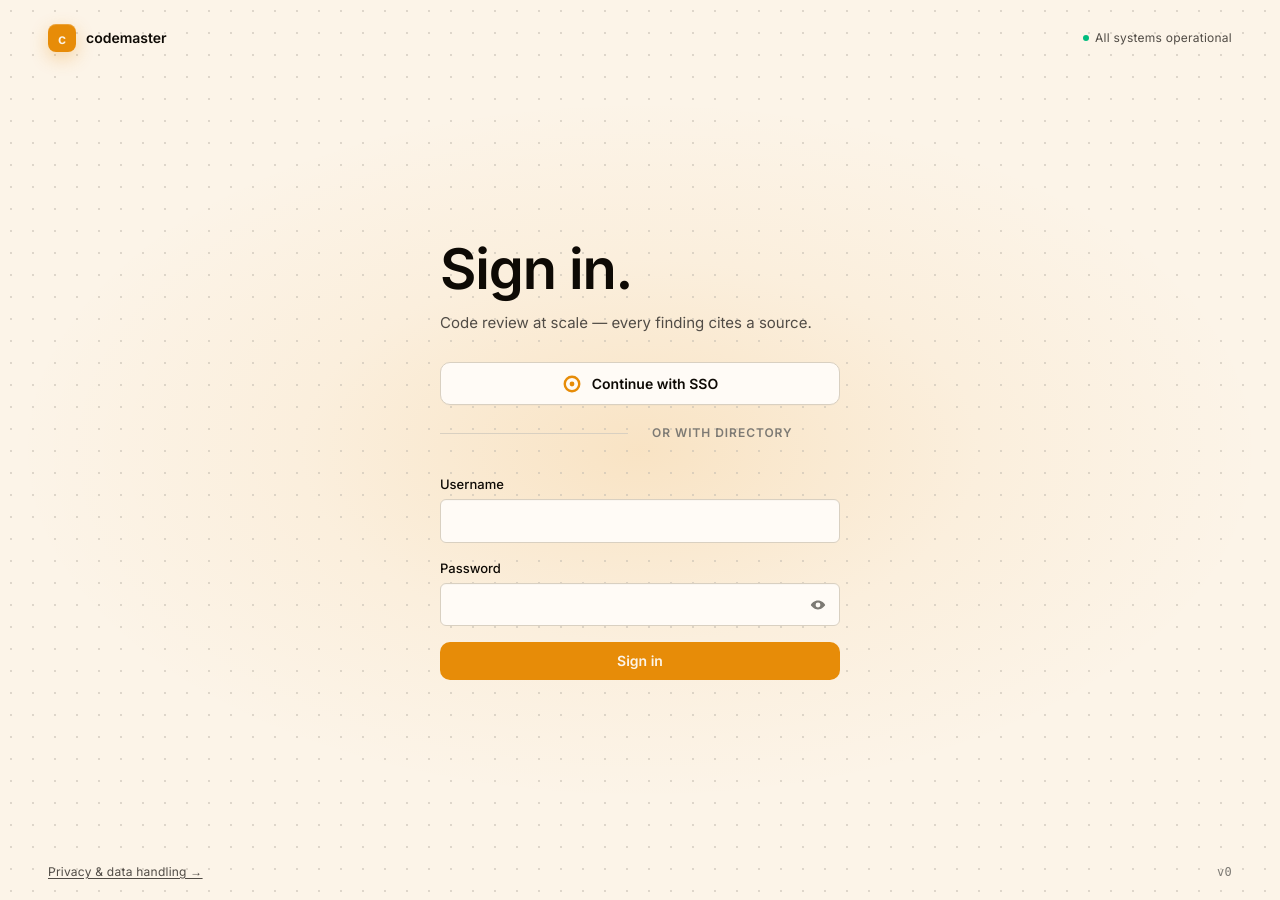
Test: LoginPage error mapping (X.2) › status 401 renders the right banner
In the field labelled "Username": (640, 521) [440, 499, 840, 542], type "u"
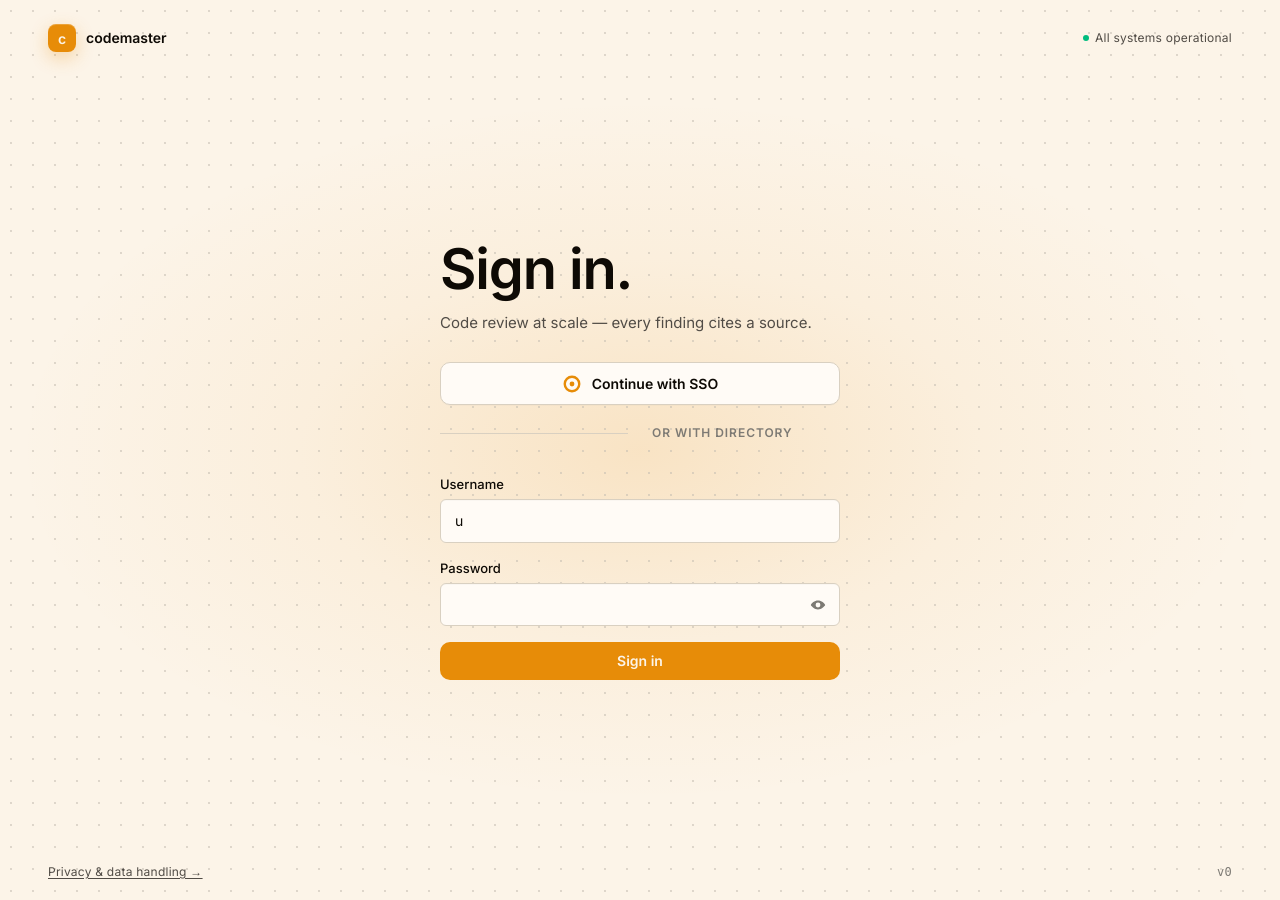
In the password field labelled "Password": (640, 605) [440, 583, 840, 626], type "p"
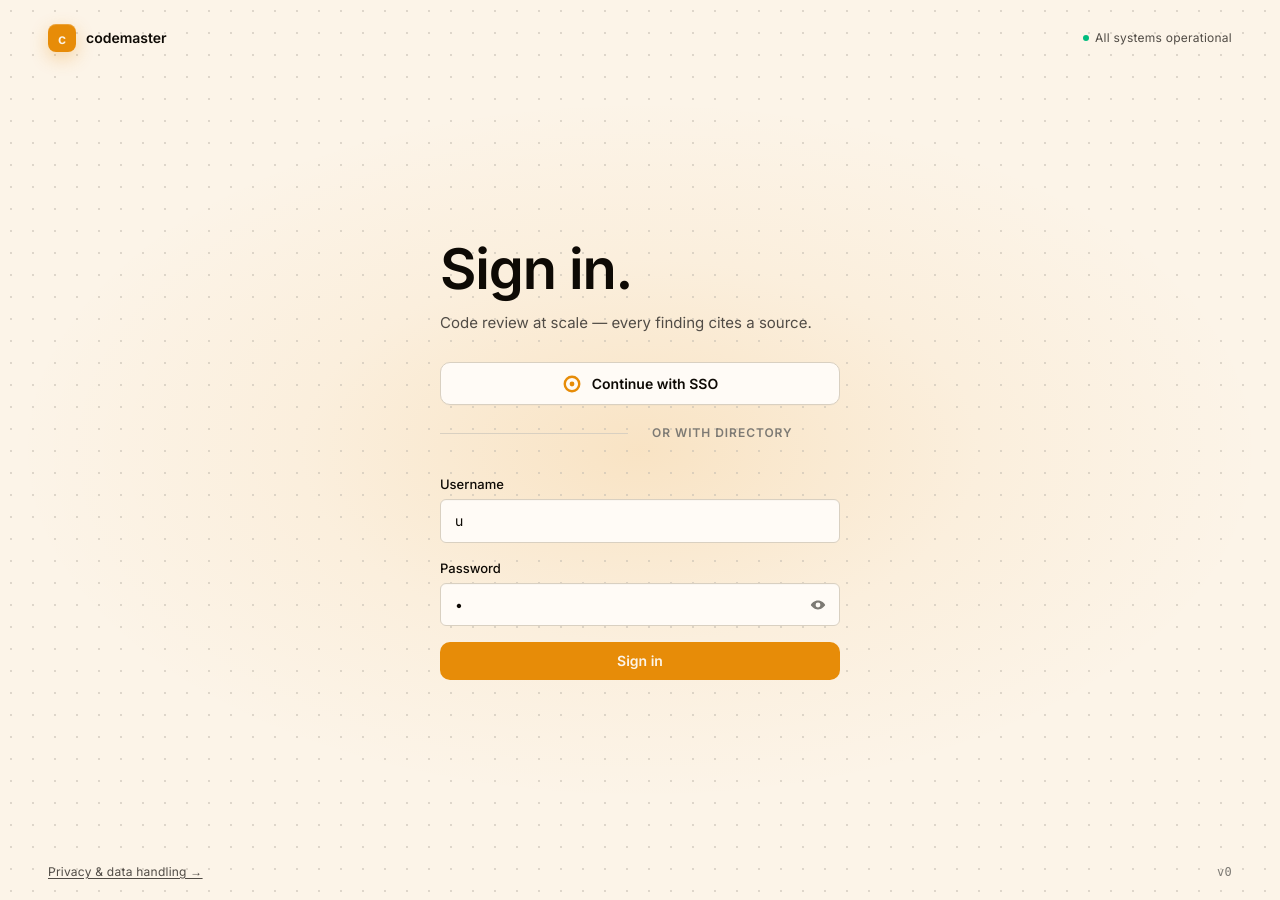
Submit the form "Username Password Sign in", box [440, 475, 840, 680]
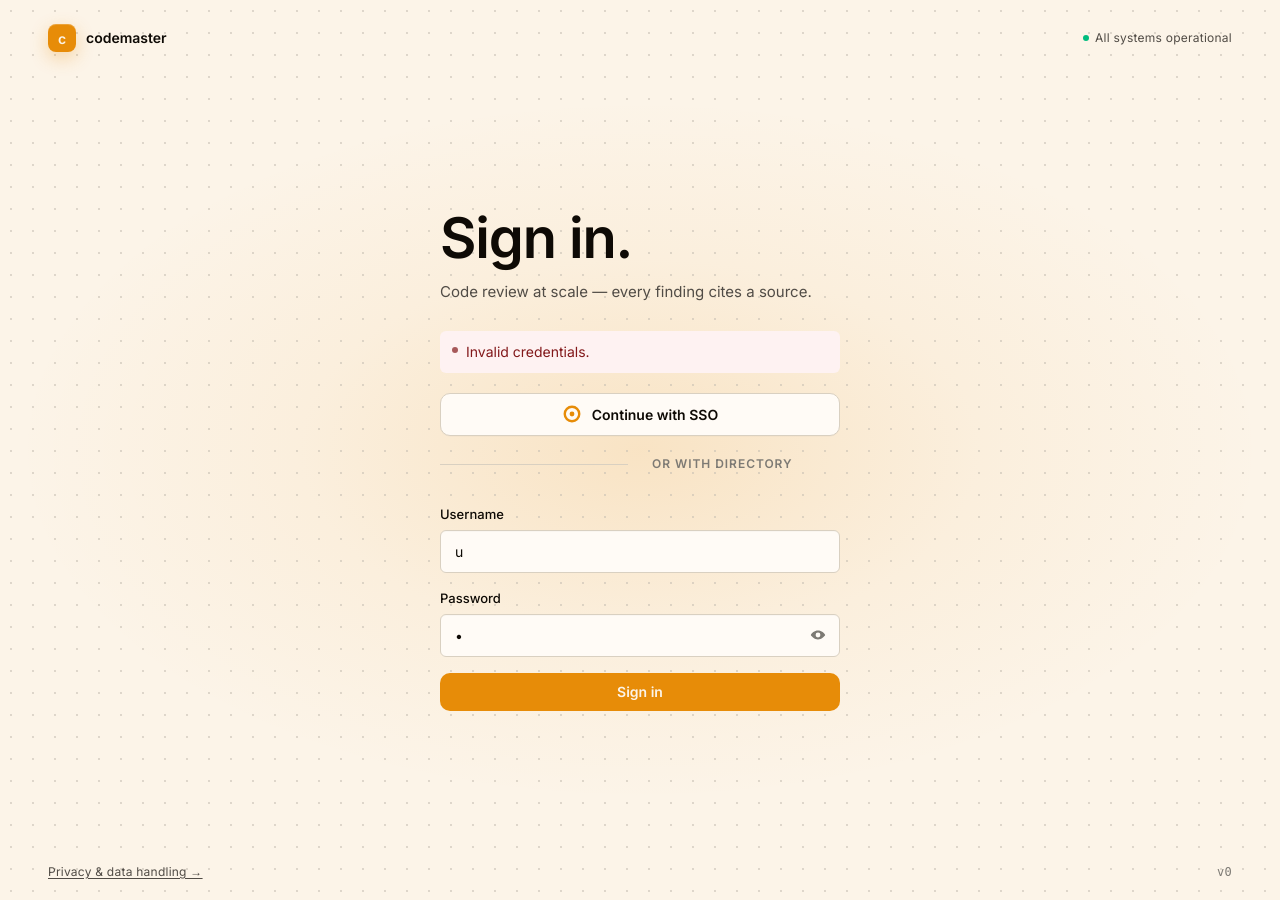
Expected: the message "Invalid credentials." is shown, [440, 331, 840, 373]
Expected: the message shows "Invalid credentials", [466, 343, 590, 360]
